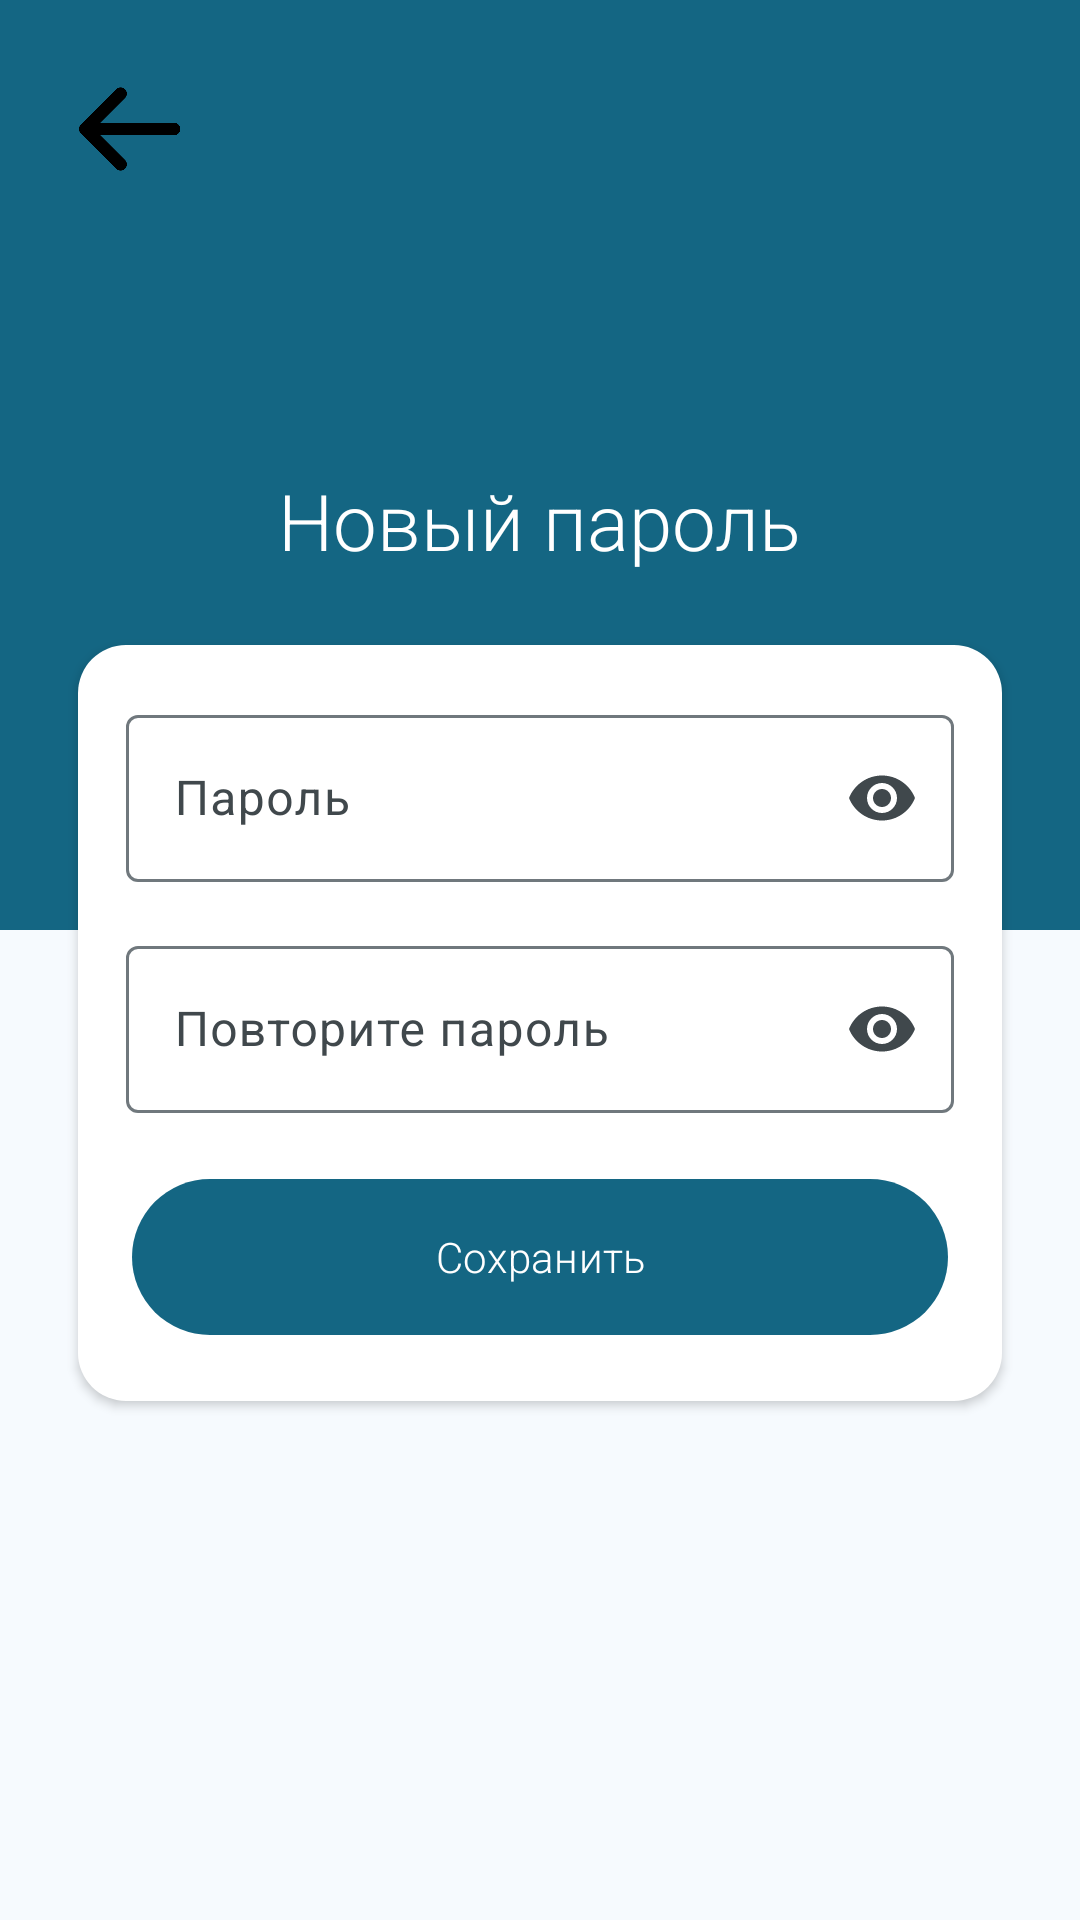

Point at icon controls on the screen. Image size 1080*1920, points as point (x, y).
back: point (129, 129)
